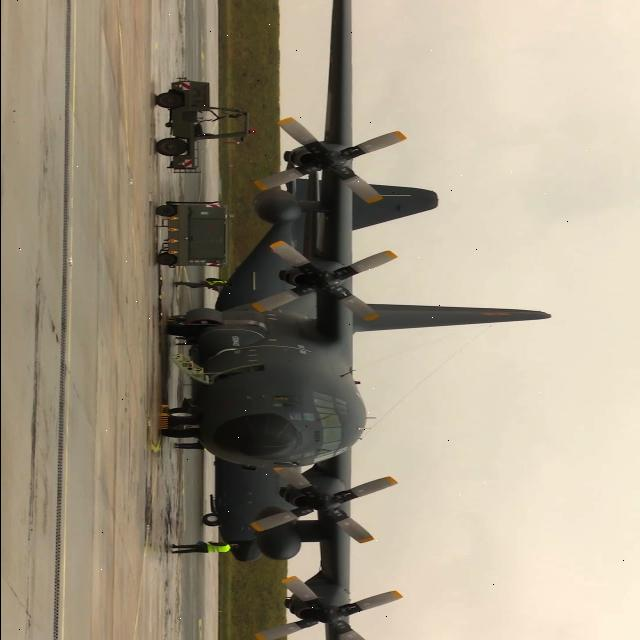C130: (119, 0, 572, 638)
